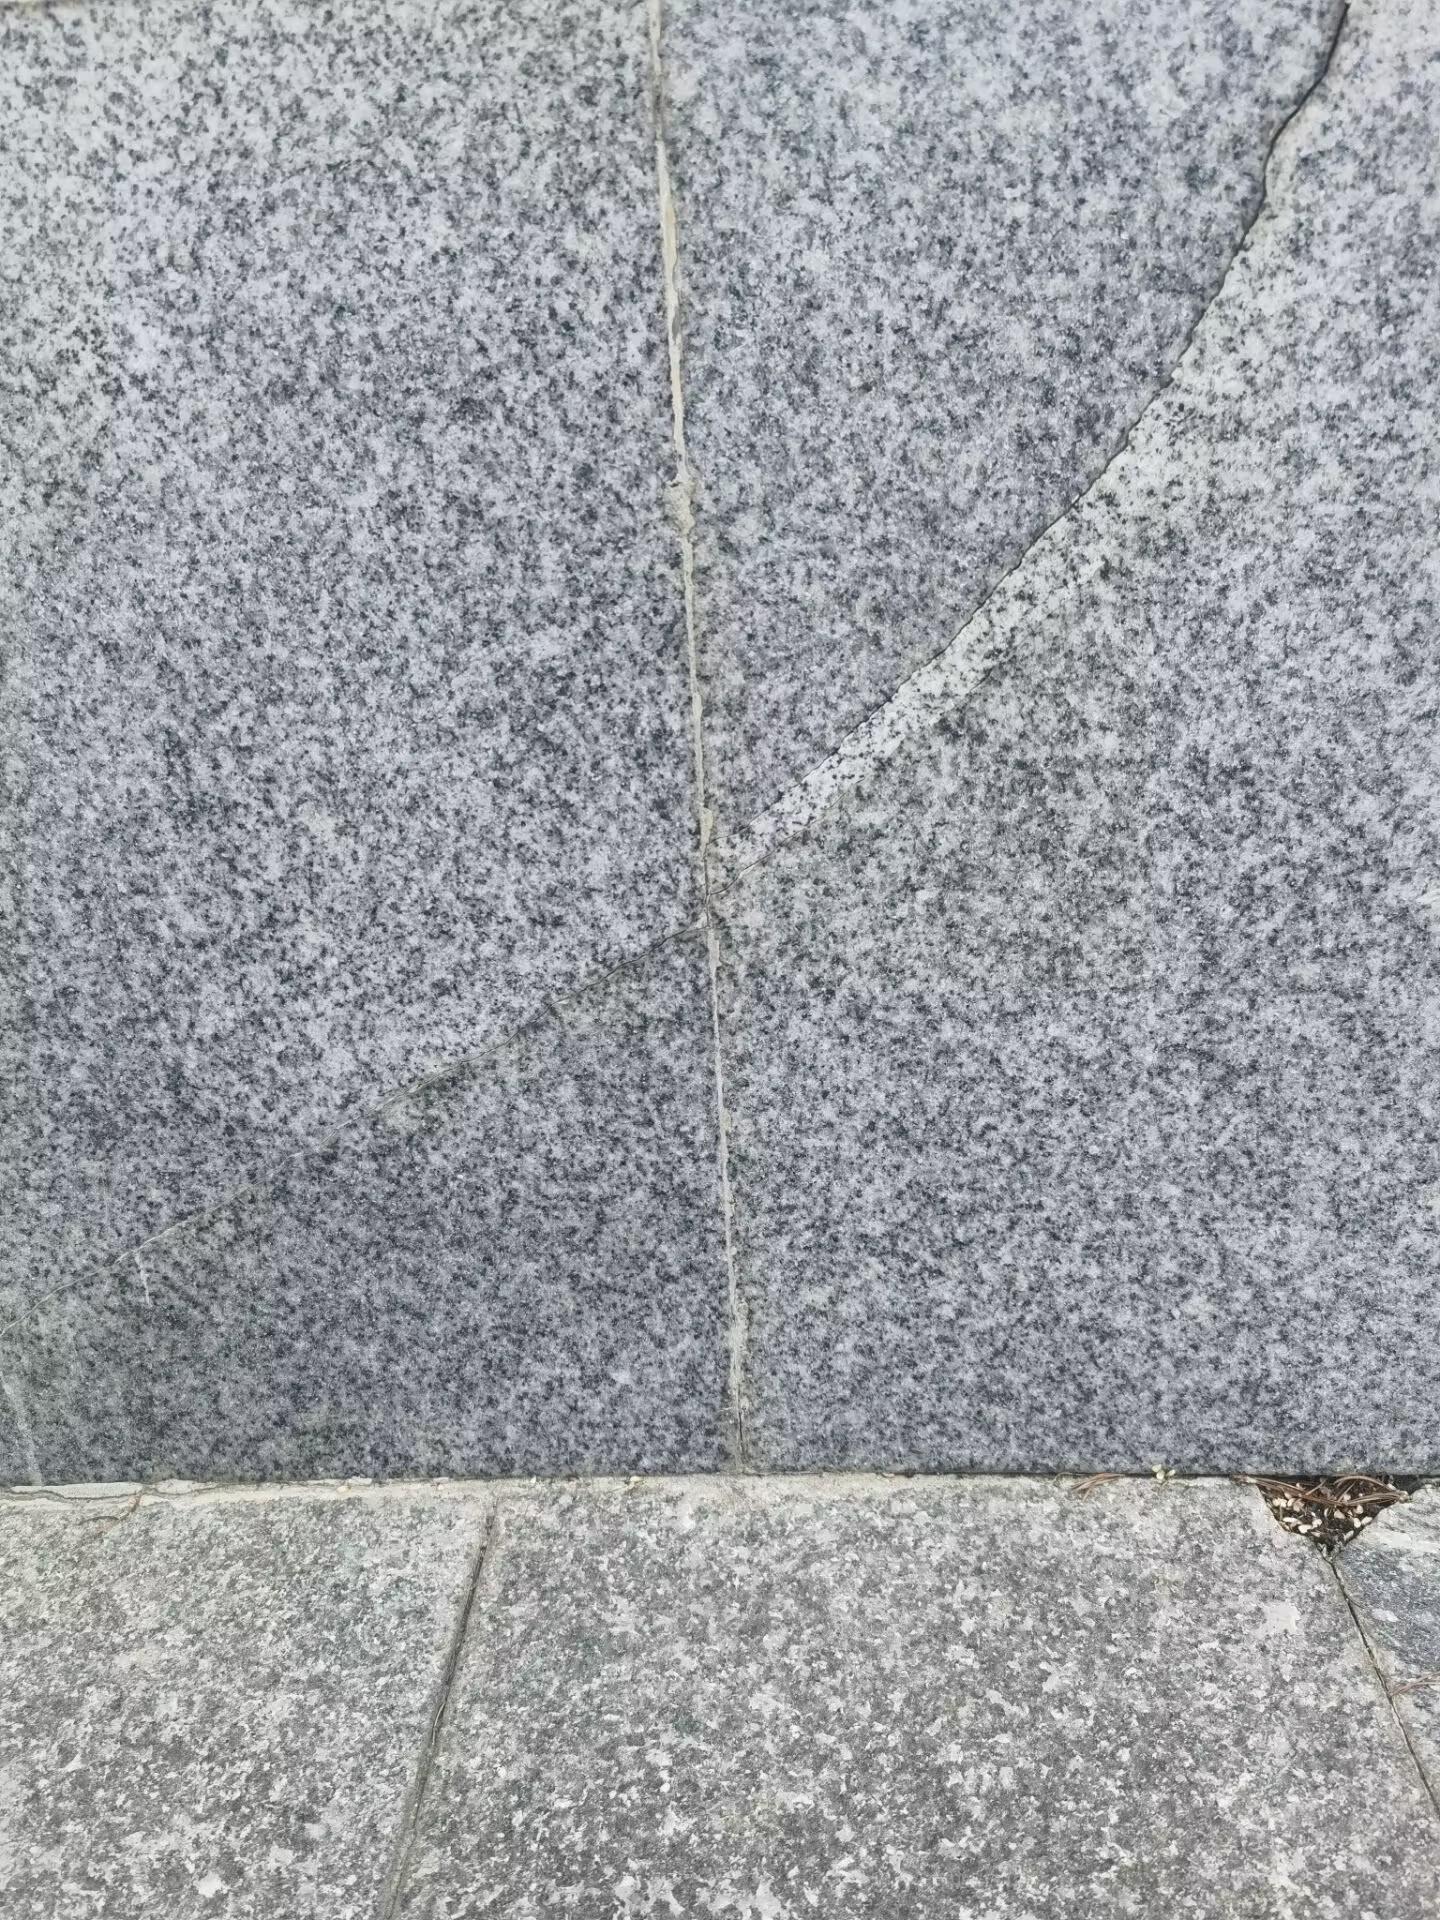TILE: (705, 5, 1352, 880)
